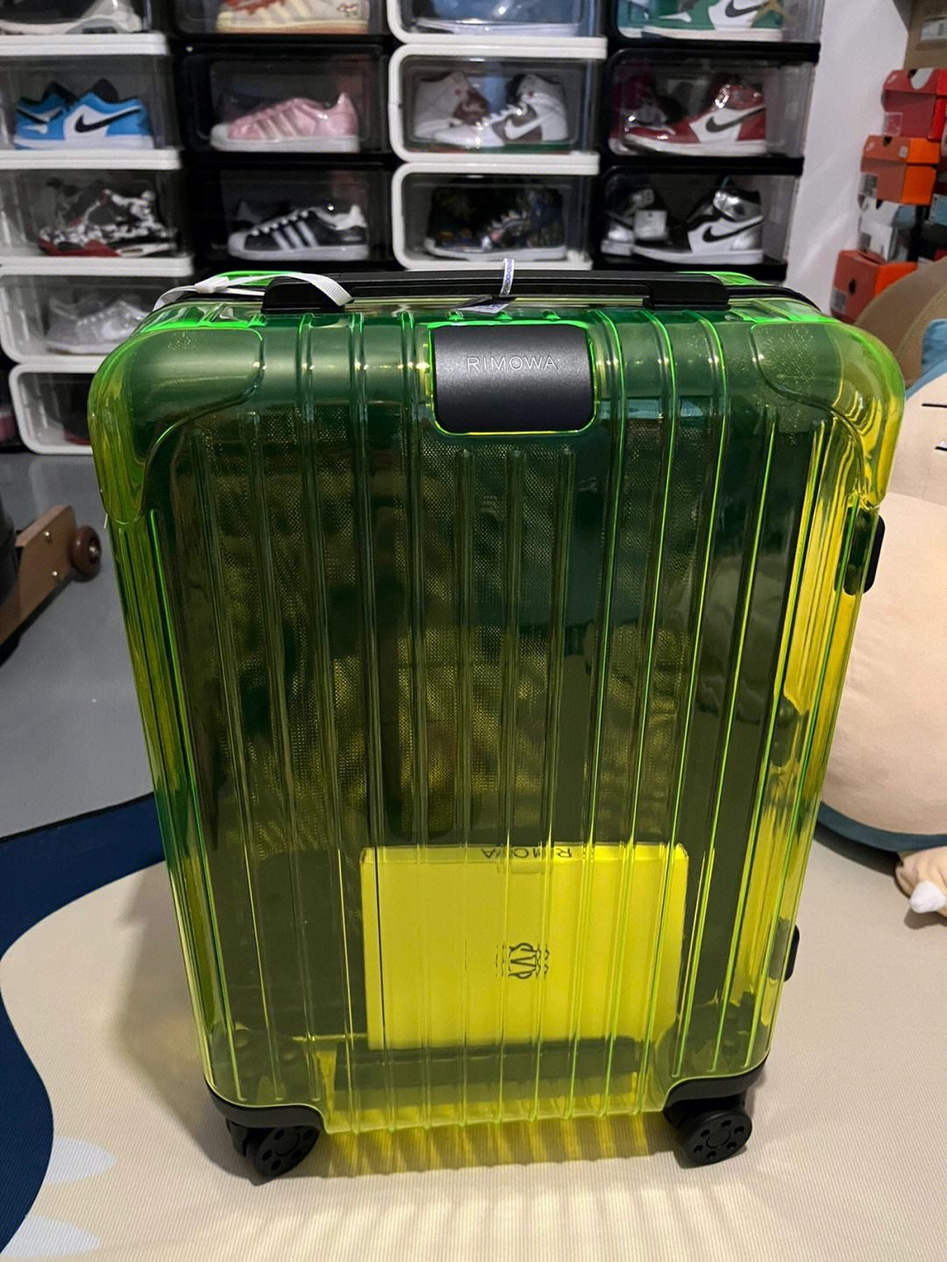box: (87, 270, 908, 1141)
handle: (260, 269, 732, 315)
wheel: (663, 1102, 753, 1167), (226, 1122, 321, 1181)
